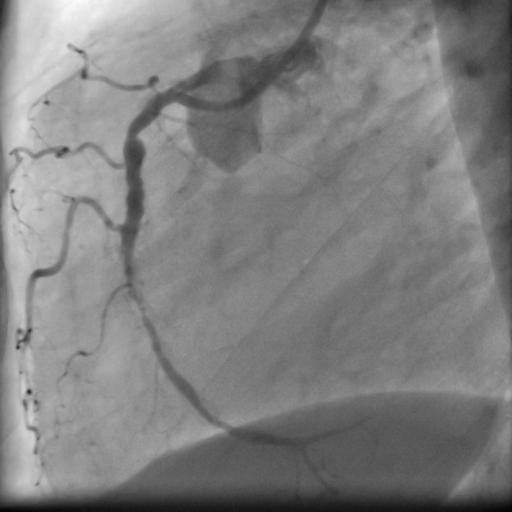Stenosis: (123, 116, 142, 141)
